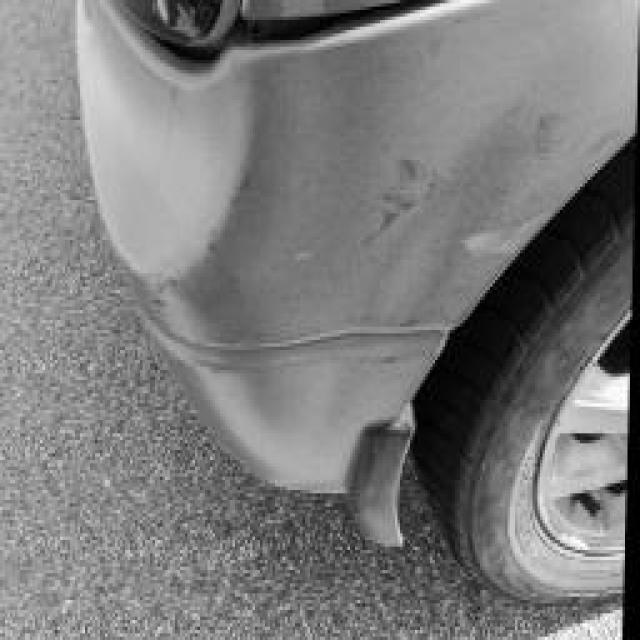Bumper: (79, 11, 277, 303)
